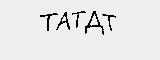А: (55, 9, 72, 33)
Д: (83, 10, 104, 34)
Т: (101, 12, 120, 35), (39, 10, 57, 32), (70, 9, 85, 32)
